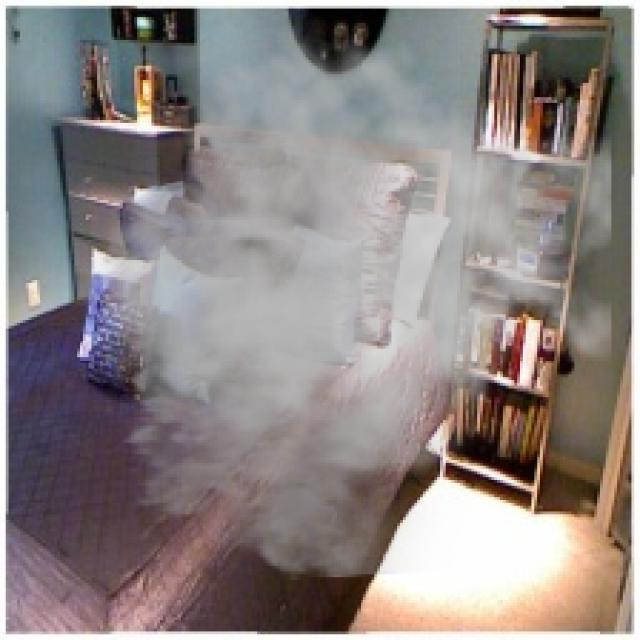smoke: (51, 20, 612, 580)
